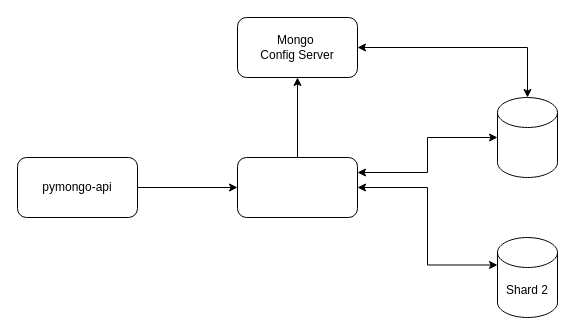
Image size: 575x335. Some labels were removed from this diagram. The shapes that lost their labels are listed below. From the top down, each one's centre as x and y in pixels, then its label:
At [527,137]: "Shard 1".
At [297,187]: "Mongo router".
